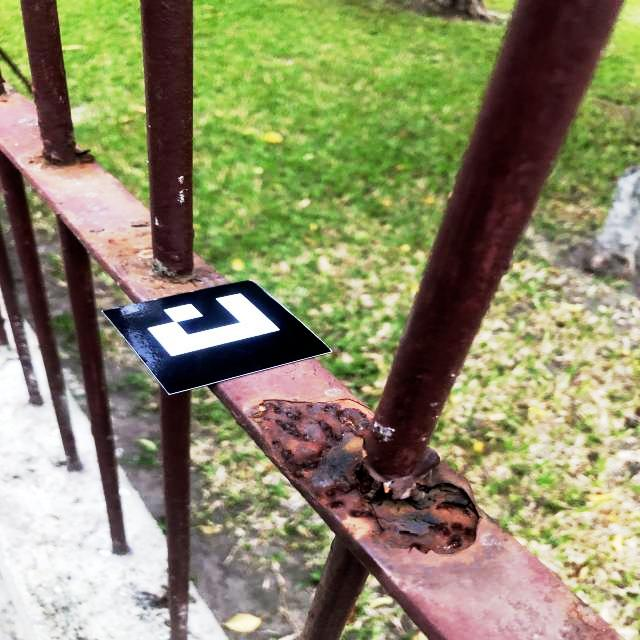Corrosion: (245, 399, 482, 555), (18, 146, 95, 170), (136, 269, 203, 287), (106, 233, 153, 258), (0, 73, 6, 96), (2, 100, 8, 103)
